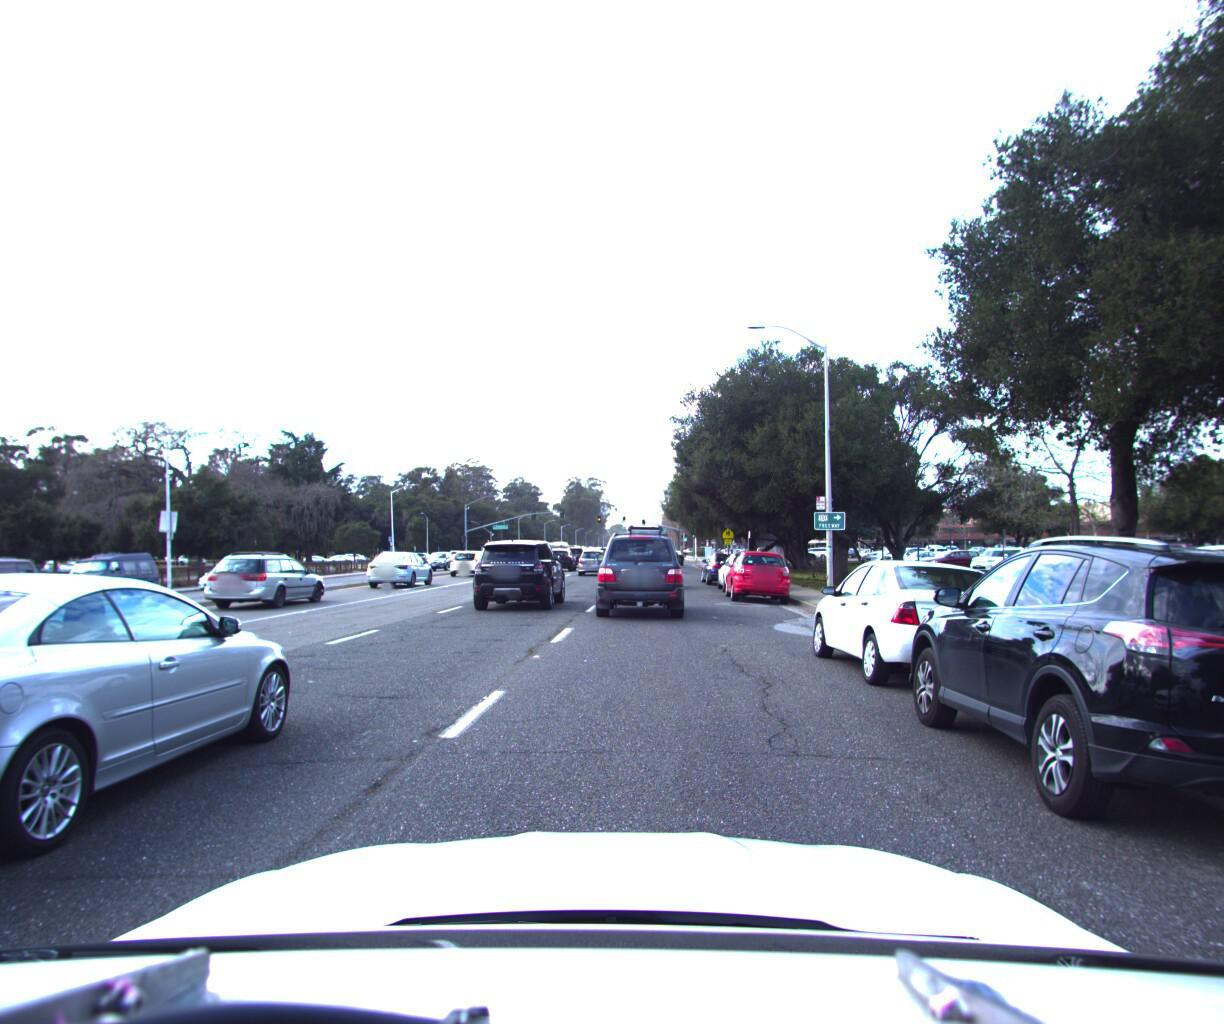car: (880, 518, 1224, 899), (0, 554, 323, 940), (799, 549, 1058, 700), (595, 518, 688, 619), (200, 544, 335, 610), (471, 531, 569, 610), (59, 548, 169, 602), (719, 543, 795, 599), (0, 555, 50, 619), (363, 545, 438, 585), (713, 545, 774, 590), (0, 523, 9, 732), (698, 545, 749, 581), (196, 559, 259, 588), (442, 544, 494, 573), (573, 543, 607, 570), (543, 542, 575, 567), (421, 545, 453, 567)
